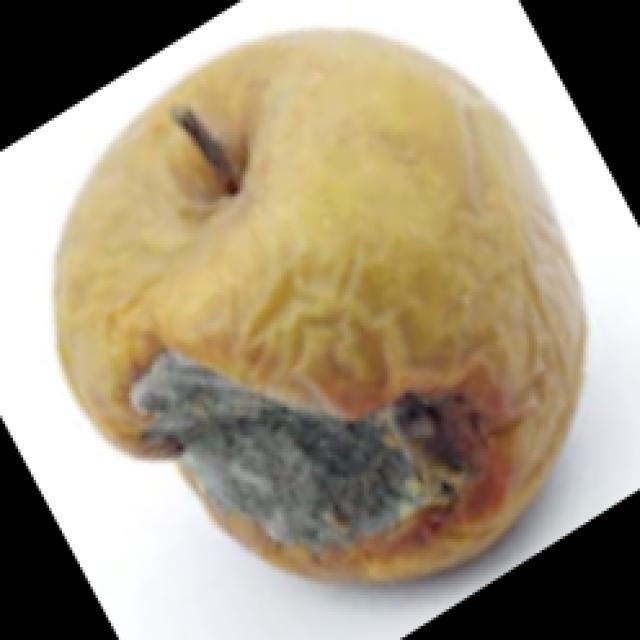Rotten: (57, 38, 593, 577)
